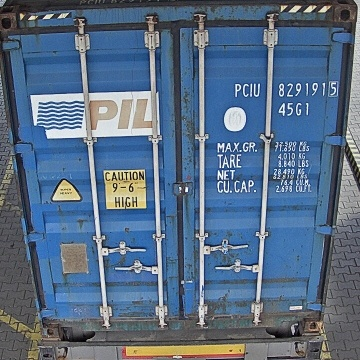serial_id: (235, 81, 338, 96)
